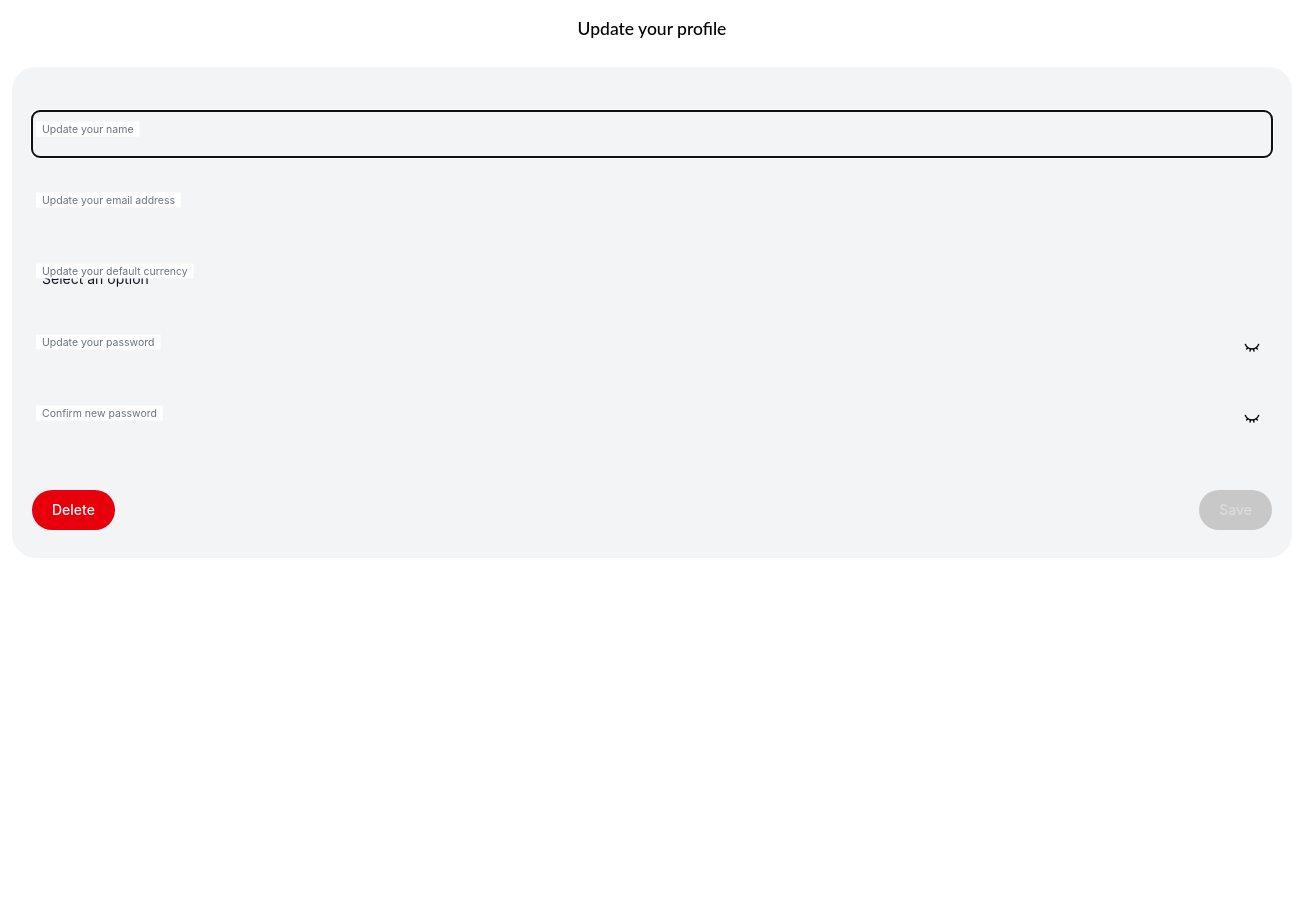
SettingsPage page › handles API errors gracefully
The width and height of the screenshot is (1292, 900).
Type "Updated Test User" into the field labelled "Update your name".
click(652, 134); type("Updated Test User")  # box [32,111,1272,157]
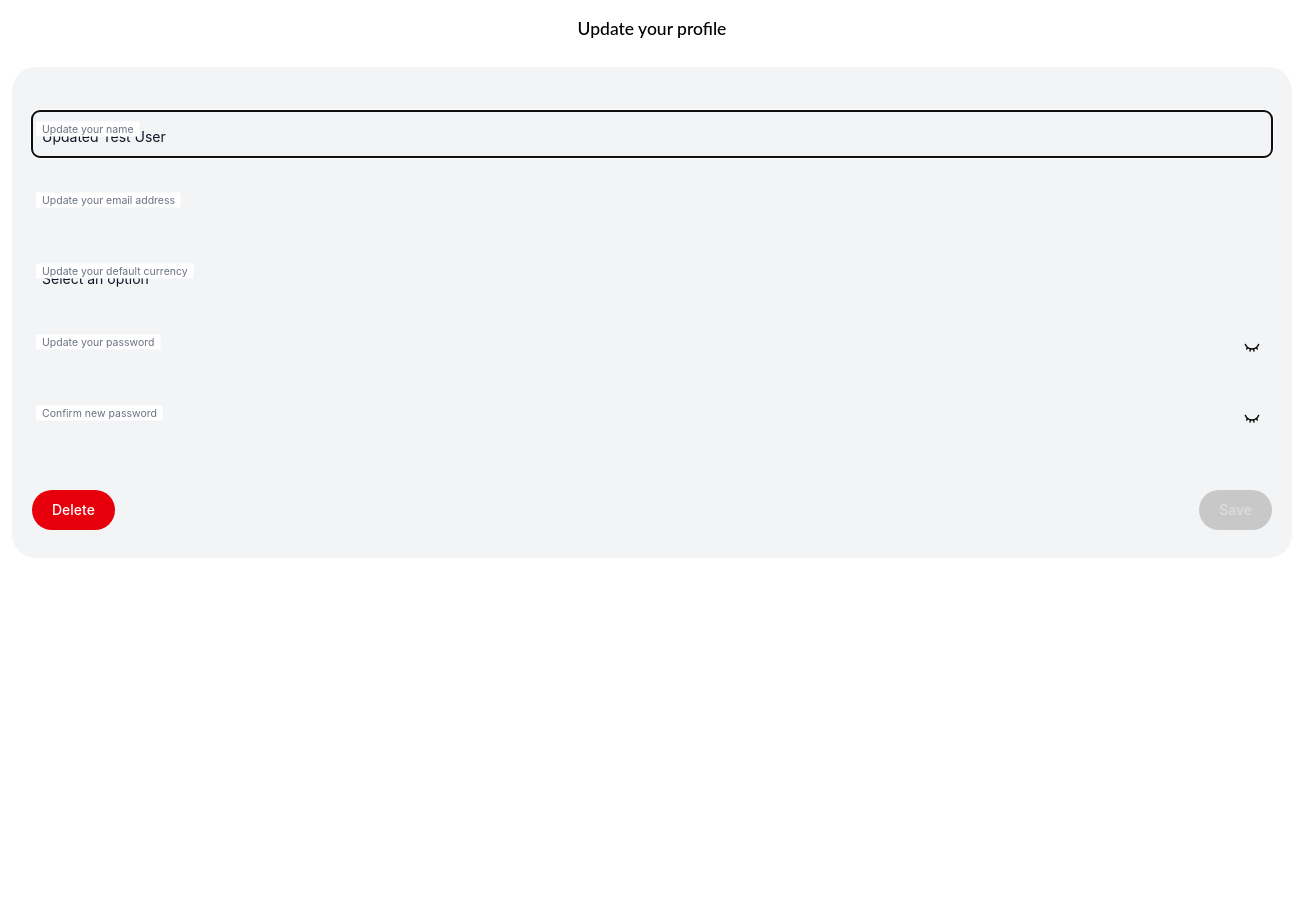
Type "updatedtestuser@example.com" into the field labelled "Update your email address".
click(652, 205); type("updatedtestuser@example.com")  # box [32,182,1272,228]
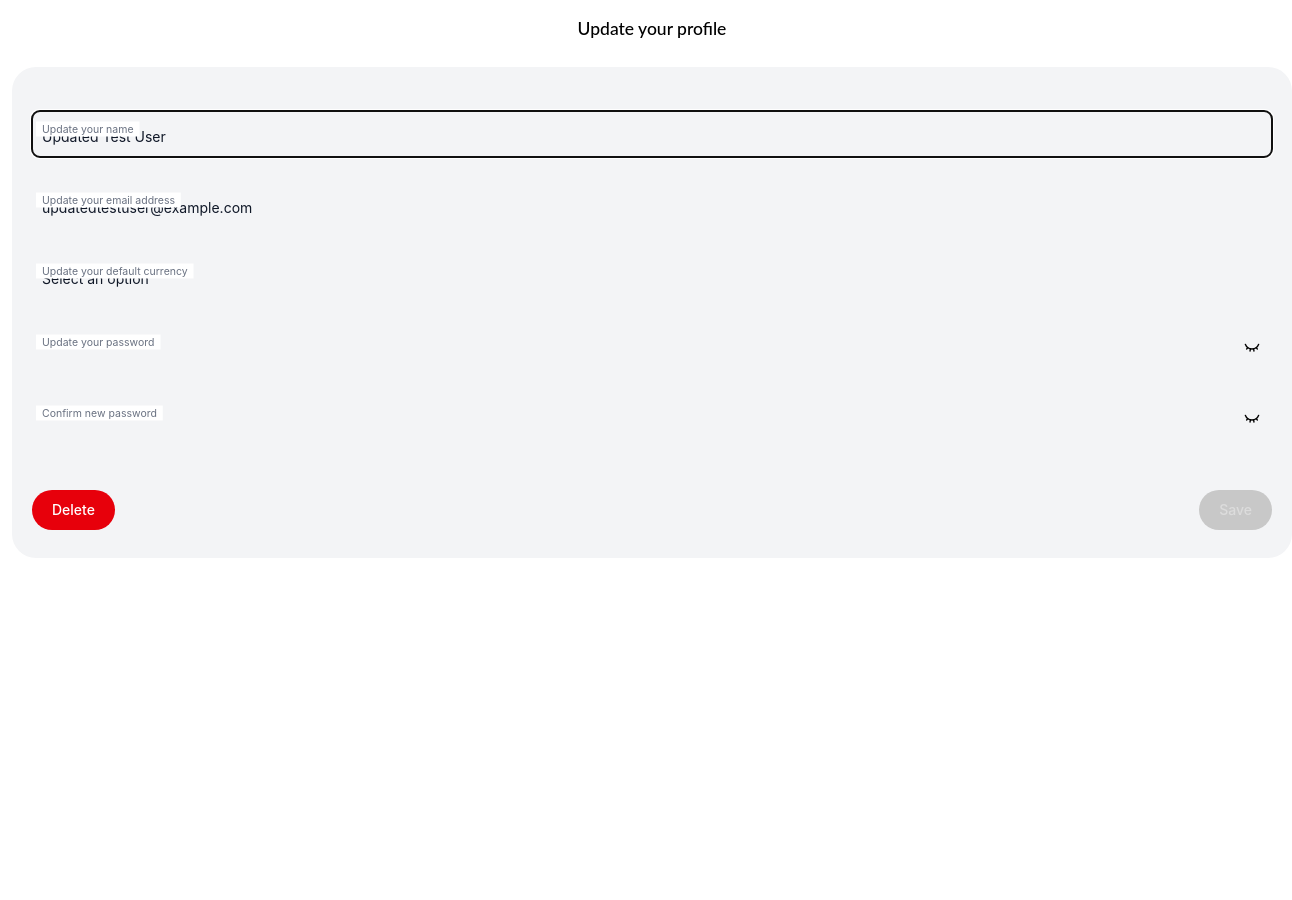
Select "EUR - Euro" in the dropdown labelled "Update your default currency" at (652, 276), box [32,253,1272,299]
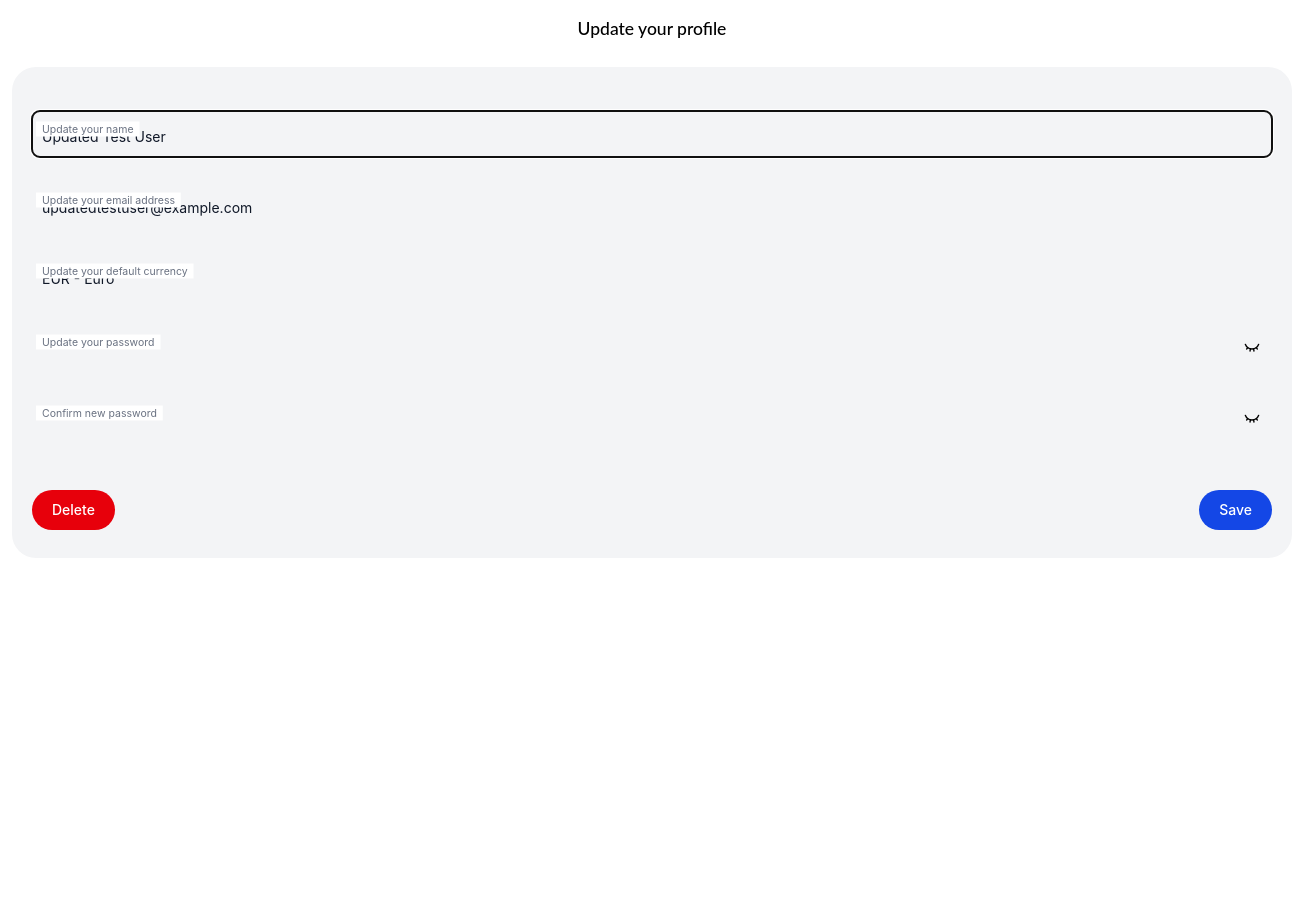
Click the button "Save".
click(1236, 510)  # box [1199,490,1272,530]
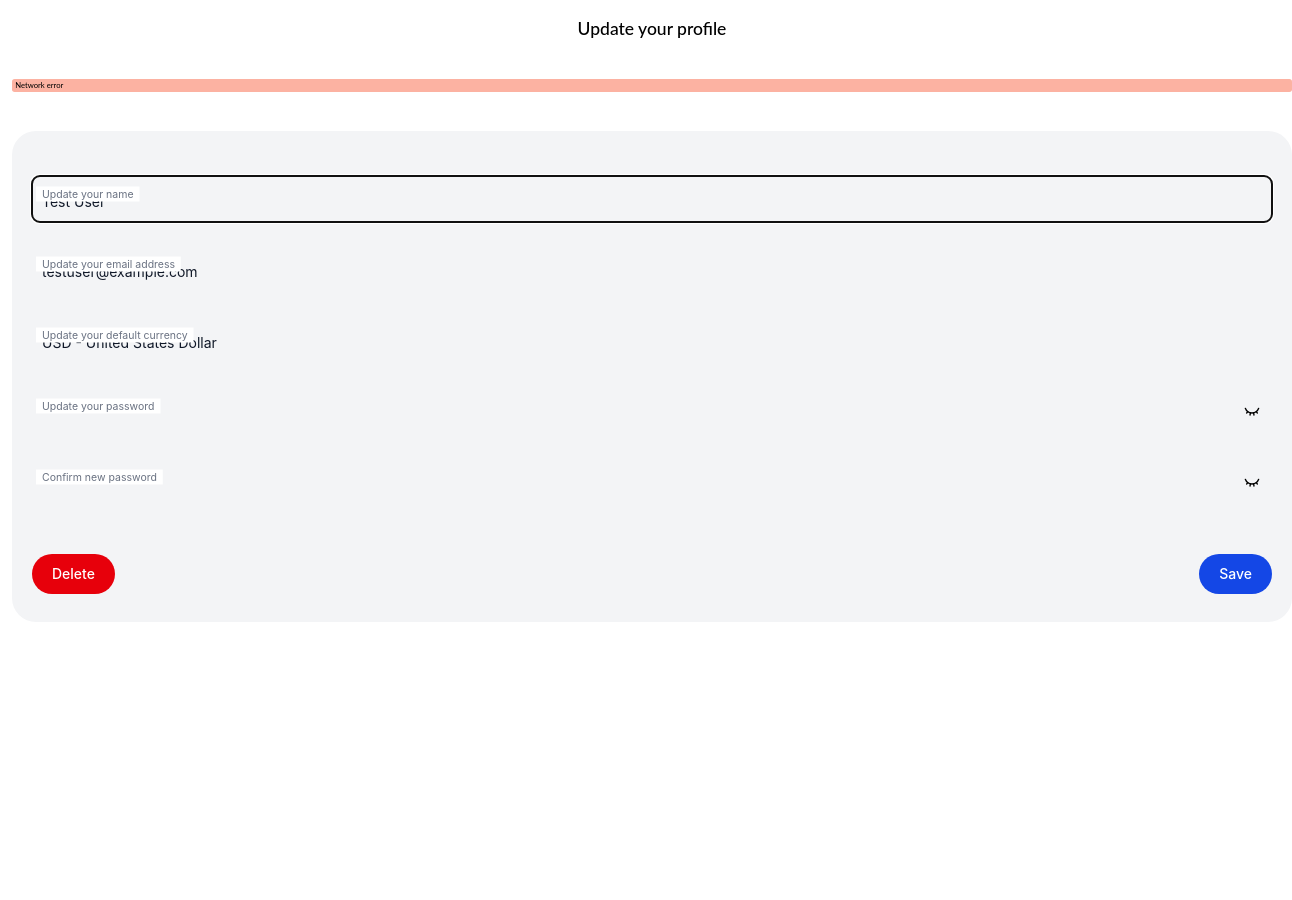
Now the text "Network error" is shown, box [12,79,1291,92]
